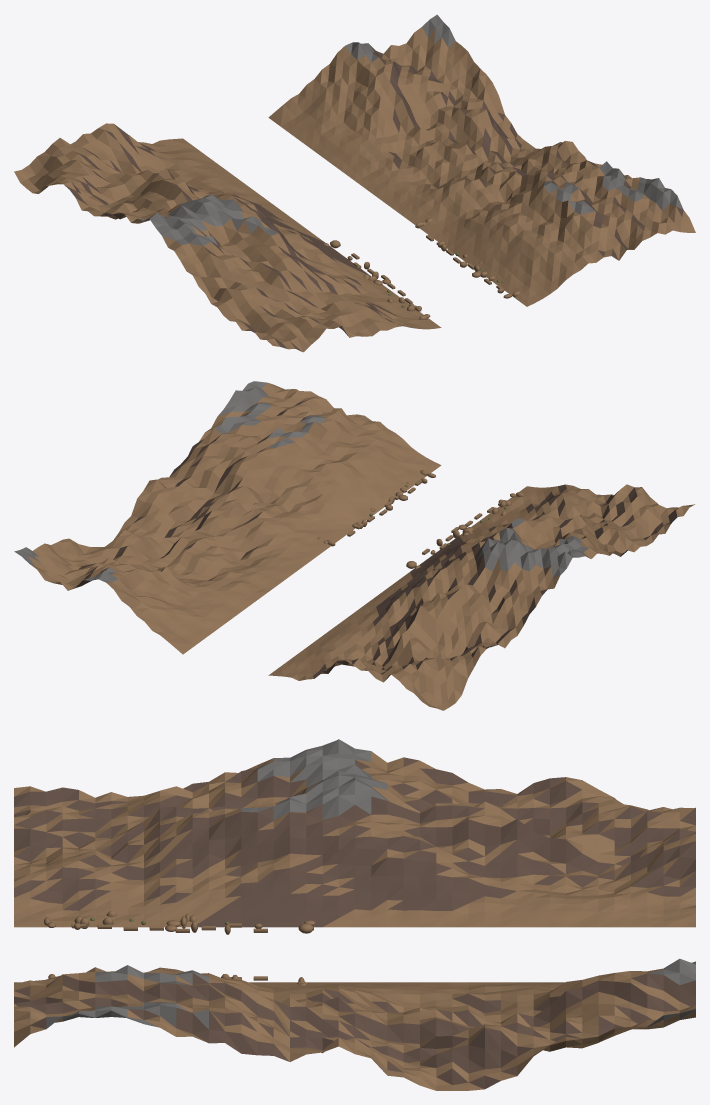
File: region_mountain_runtime.glb
3 views of the same model, one above another, from view 1: azimuth 30°, elevation 25°; view 2: azimuth 150°, elevation 25°; view 3: azimuth 270°, elevation 25° (orthographic). The views are drawn at different scales.
Parts seen in each view (by area): view 1: Cordillera_-1; view 2: Cordillera_-1; view 3: Cordillera_-1.
Part boxes in pixels (<box>): Cordillera_-1: <box>14,14,695,352</box>; Cordillera_-1: <box>14,381,694,710</box>; Cordillera_-1: <box>14,739,695,1090</box>.
Bounding box in the file's own units: 99.2 × 15 × 105.
